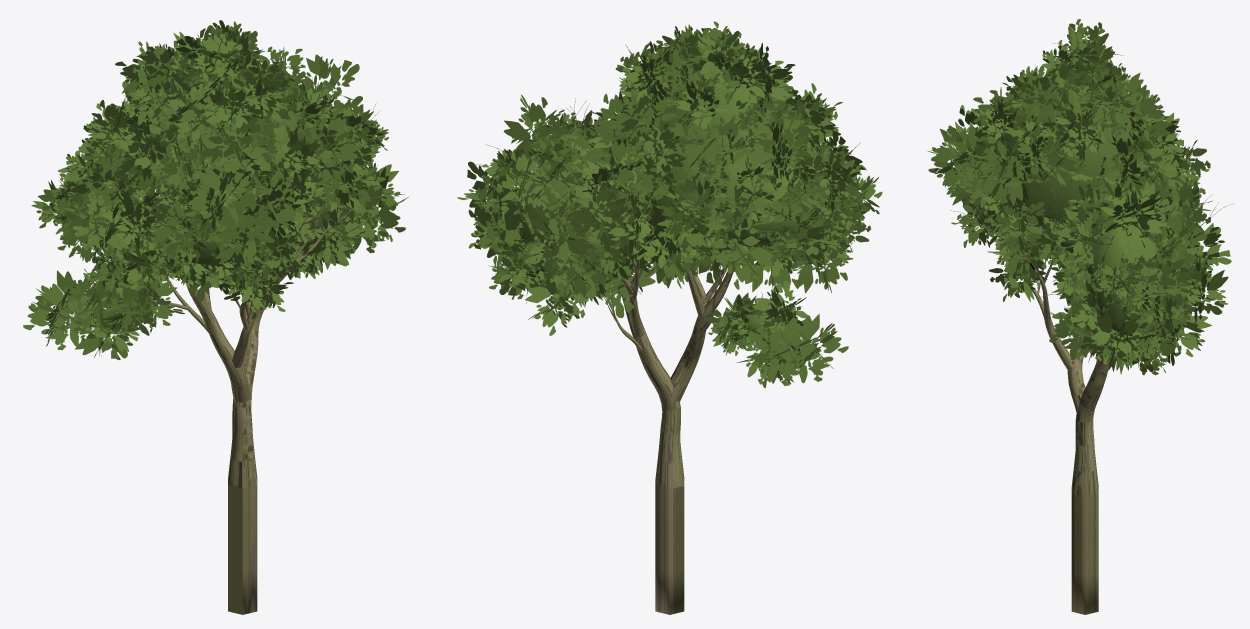
File: LO_Tree_Lemon1.glb
The picture shows the model from 3 angles, left to right: view 1: azimuth 30°, elevation 25°; view 2: azimuth 150°, elevation 25°; view 3: azimuth 270°, elevation 25°; orthographic projection. The views are drawn at different scales.
Parts seen in each view (by area): view 1: leavesSphere_Sample01, treeTrunk_Sample01; view 2: leavesSphere_Sample01, treeTrunk_Sample01; view 3: leavesSphere_Sample01, treeTrunk_Sample01.
Boxes of the visible parts, box(x1,y1,x2,y2) form: leavesSphere_Sample01: box(23, 20, 408, 359); treeTrunk_Sample01: box(90, 76, 399, 614); leavesSphere_Sample01: box(457, 21, 882, 388); treeTrunk_Sample01: box(474, 98, 802, 614); leavesSphere_Sample01: box(927, 19, 1231, 375); treeTrunk_Sample01: box(950, 134, 1234, 614).
Size of the model in its own units: 12.97 by 19.29 by 9.96.
2 materials, 2 textured.
